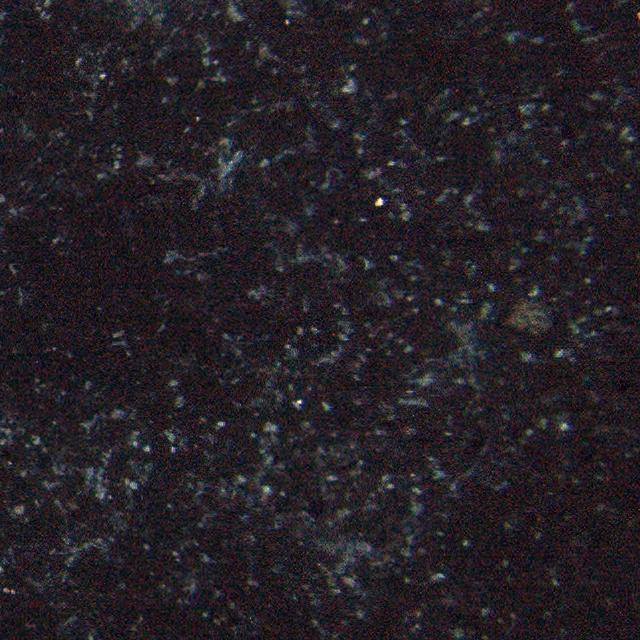whelk: (499, 294, 562, 342)
